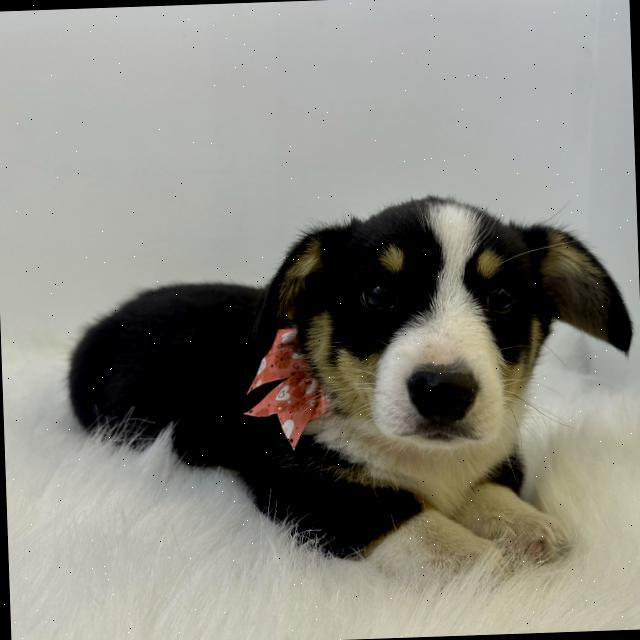corgi_dog: (231, 183, 638, 472)
